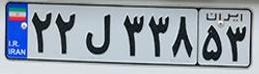character: (80, 8, 116, 59), (116, 8, 145, 60), (53, 8, 80, 56), (171, 9, 195, 62), (146, 9, 170, 60), (29, 8, 53, 55), (225, 24, 248, 63), (201, 24, 224, 62)
